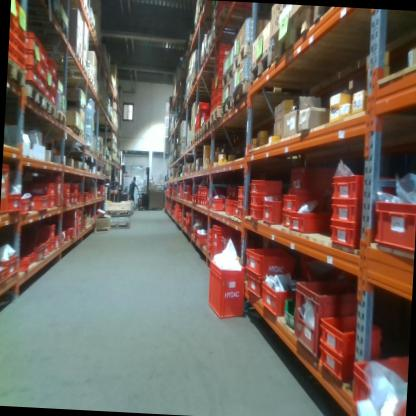pallet: (269, 3, 312, 67), (20, 14, 70, 43), (249, 40, 277, 84), (33, 46, 83, 68), (11, 0, 60, 22), (230, 40, 253, 78), (6, 56, 28, 89), (21, 83, 46, 112), (50, 63, 90, 81), (231, 75, 251, 109), (312, 7, 336, 27), (219, 93, 232, 122), (220, 61, 233, 90), (63, 97, 87, 112), (52, 125, 79, 138), (209, 100, 221, 127), (39, 104, 58, 121), (196, 48, 212, 68), (107, 219, 130, 231), (76, 75, 96, 88), (201, 115, 210, 137), (196, 2, 209, 17), (105, 209, 132, 216), (57, 112, 67, 126), (82, 3, 90, 18), (73, 132, 85, 141), (197, 125, 203, 141), (193, 130, 198, 148), (188, 137, 194, 151), (93, 87, 98, 95)
pallet_truck: (134, 162, 151, 213), (117, 164, 131, 201)
small_load_carrier: (289, 273, 373, 365), (347, 346, 408, 416), (315, 312, 388, 359), (313, 342, 381, 384), (369, 197, 415, 257), (204, 259, 248, 321), (287, 163, 336, 214), (241, 243, 294, 279), (256, 273, 294, 317), (289, 208, 334, 240), (330, 170, 367, 201), (31, 173, 62, 209), (209, 222, 234, 263), (328, 221, 360, 250), (328, 198, 362, 223), (219, 233, 247, 263), (244, 271, 270, 301), (262, 179, 280, 219), (0, 163, 12, 217), (277, 188, 301, 212), (261, 198, 279, 229), (0, 253, 19, 281), (26, 242, 45, 268), (28, 180, 56, 195), (21, 35, 41, 55), (20, 249, 35, 273), (31, 192, 49, 212), (23, 52, 40, 73), (249, 177, 268, 195), (22, 67, 39, 87), (35, 221, 56, 237), (8, 192, 22, 215), (20, 190, 34, 212), (32, 76, 47, 95), (37, 42, 49, 64), (207, 195, 223, 211), (248, 206, 265, 221), (248, 194, 267, 207), (223, 198, 235, 218), (195, 227, 207, 247), (34, 62, 47, 80), (16, 3, 27, 24), (216, 44, 232, 58), (15, 17, 26, 37), (46, 60, 57, 80), (13, 39, 25, 57), (14, 26, 25, 45), (0, 264, 9, 285), (280, 208, 291, 225), (40, 237, 51, 254), (47, 76, 58, 93), (206, 188, 223, 199), (15, 52, 24, 72), (18, 257, 29, 273), (76, 209, 83, 234), (231, 199, 240, 218), (237, 184, 249, 198), (78, 189, 89, 204), (216, 55, 228, 68), (199, 113, 210, 126), (214, 73, 224, 87), (10, 0, 16, 23), (62, 228, 75, 238), (46, 195, 55, 209), (69, 207, 79, 219), (185, 184, 193, 199), (49, 90, 58, 103), (215, 80, 225, 91), (214, 89, 224, 100), (184, 213, 195, 223), (68, 218, 79, 228), (236, 198, 245, 210), (214, 97, 223, 109), (236, 210, 246, 220), (70, 183, 80, 193), (196, 101, 207, 110), (230, 186, 237, 200), (9, 45, 16, 59), (54, 235, 60, 251), (44, 82, 50, 98), (63, 182, 71, 194), (63, 194, 70, 207), (72, 193, 79, 206), (9, 33, 15, 48), (47, 237, 55, 248), (184, 221, 192, 232), (216, 64, 224, 74), (63, 231, 70, 242), (10, 21, 15, 36), (59, 232, 65, 244), (94, 184, 104, 191), (209, 98, 215, 108), (210, 85, 216, 94), (208, 229, 213, 239), (69, 193, 74, 203), (207, 245, 213, 253), (73, 227, 78, 236), (210, 79, 216, 86), (209, 108, 216, 114), (205, 201, 211, 208), (204, 186, 208, 196), (203, 197, 207, 207), (193, 228, 197, 238), (202, 183, 205, 196), (207, 239, 213, 245), (209, 94, 215, 100), (200, 185, 203, 196), (198, 184, 201, 195), (100, 191, 104, 198), (200, 197, 203, 206), (194, 194, 197, 203), (197, 197, 200, 204), (191, 195, 194, 202), (202, 197, 204, 205)
